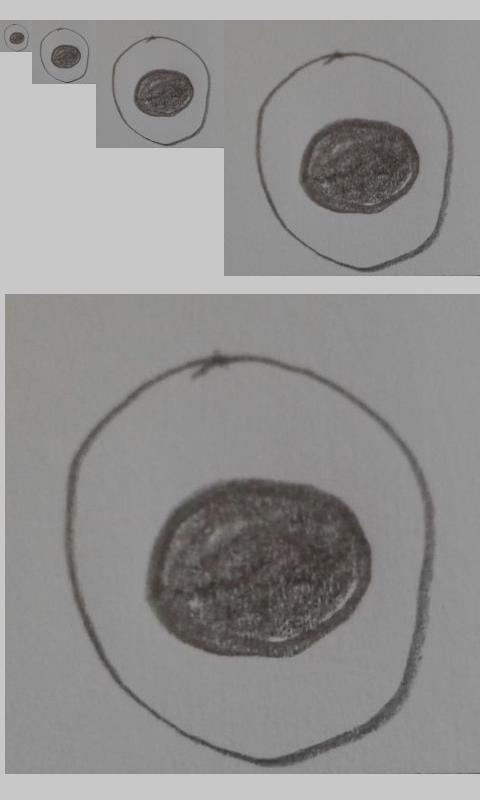radio_button: (60, 351, 437, 767), (254, 48, 455, 274), (111, 35, 212, 146), (39, 27, 90, 83), (3, 23, 29, 52)
